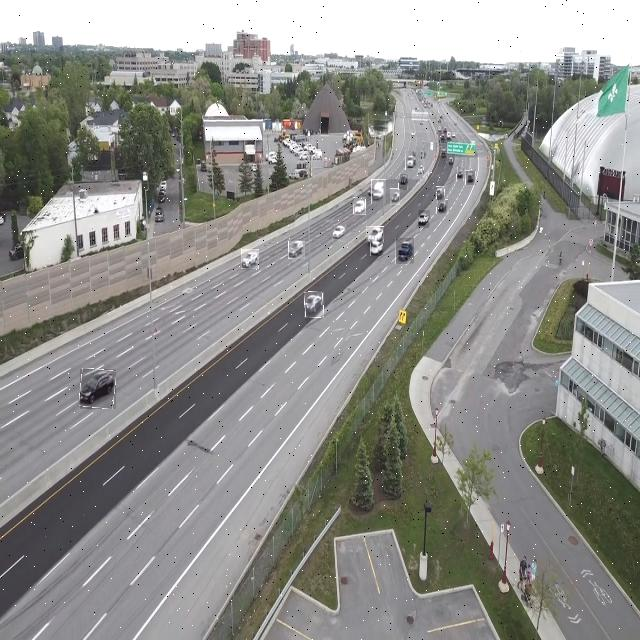Car: (80, 369, 116, 409), (304, 292, 324, 318), (241, 249, 259, 269), (288, 241, 305, 259), (332, 224, 346, 242), (405, 150, 416, 170), (354, 197, 366, 215), (418, 210, 430, 228), (370, 240, 383, 256), (390, 188, 400, 205), (437, 199, 448, 214), (466, 170, 476, 185), (399, 174, 408, 190), (437, 186, 445, 201), (457, 167, 464, 181)
Truck: (395, 238, 414, 264), (371, 179, 386, 204), (366, 226, 384, 243)
